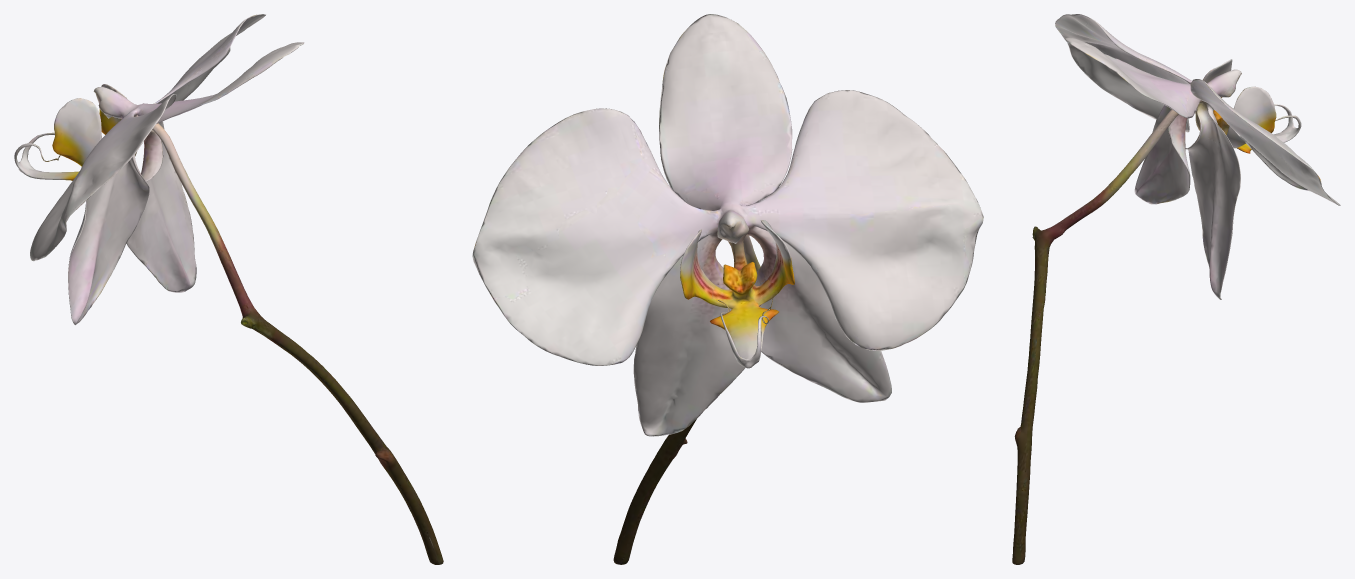
The model's file is phalaenopsis-amabilis-smithsonian.glb.
The picture shows the model from 3 angles, left to right: view 1: azimuth 30°, elevation 25°; view 2: azimuth 150°, elevation 25°; view 3: azimuth 270°, elevation 25°; orthographic projection. The views are drawn at different scales.
Bounding box in the file's own units: 0.081 × 0.116 × 0.0728.
Materials: 1 (1 with a texture image).
